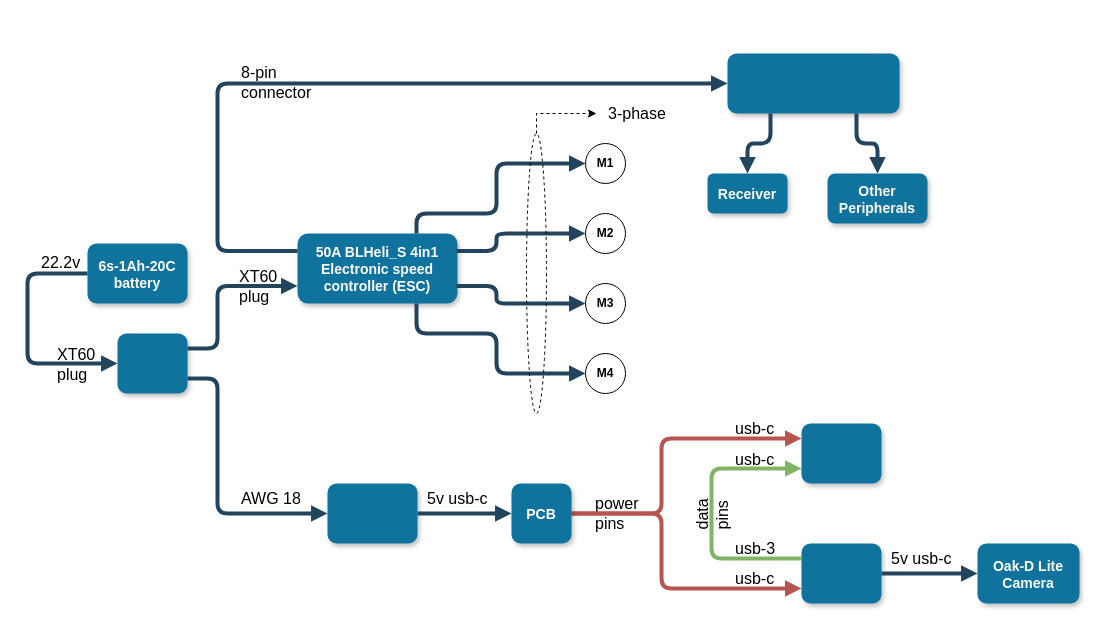
Image size: 1102x627. Some labels were removed from this diagram. Here are the shapes that lost their labels. From the top down, the centre of each, then its label:
At point (814, 84): "Speedybee F405 V3 Flight Controller".
At point (153, 364): "XT60 splitter".
At point (842, 454): "Pi-4B".
At point (373, 514): "voltage regulator".
At point (842, 574): "Y-adapter".
